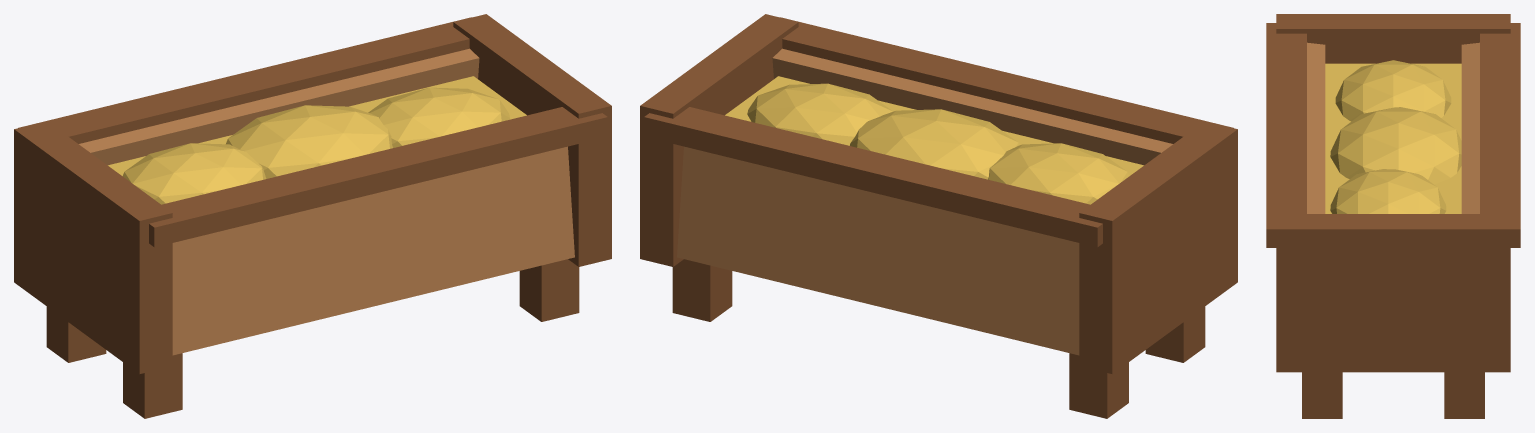
File: trough.glb
The picture shows the model from 3 angles, left to right: view 1: azimuth 30°, elevation 25°; view 2: azimuth 150°, elevation 25°; view 3: azimuth 270°, elevation 25°; orthographic projection. The views are drawn at different scales.
Parts seen in each view (by area): view 1: trough, feed; view 2: trough, feed; view 3: trough, feed.
Part boxes in pixels (x1,y1,x2,y2): trough: [14, 14, 611, 418]; feed: [108, 76, 526, 204]; trough: [640, 14, 1237, 418]; feed: [725, 76, 1143, 204]; trough: [1266, 14, 1520, 418]; feed: [1325, 60, 1461, 213].
Bounding box in the file's own units: 1 × 0.43 × 0.5.
